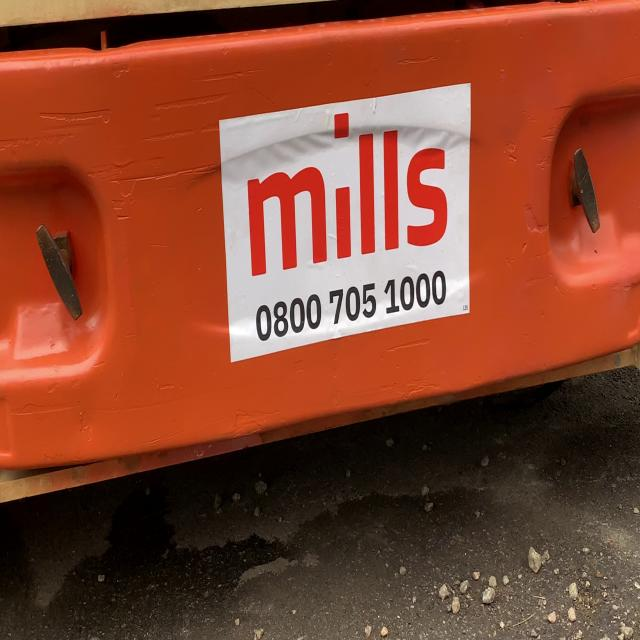Adesivos: (216, 79, 473, 369)
